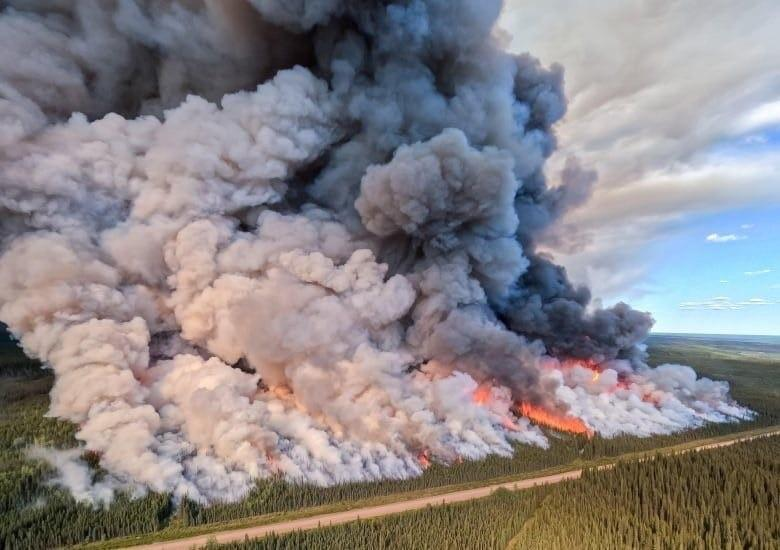fire: (516, 399, 590, 441), (566, 351, 609, 379)
smoke: (102, 9, 697, 364), (0, 0, 331, 507), (130, 419, 553, 499), (586, 384, 780, 467)
